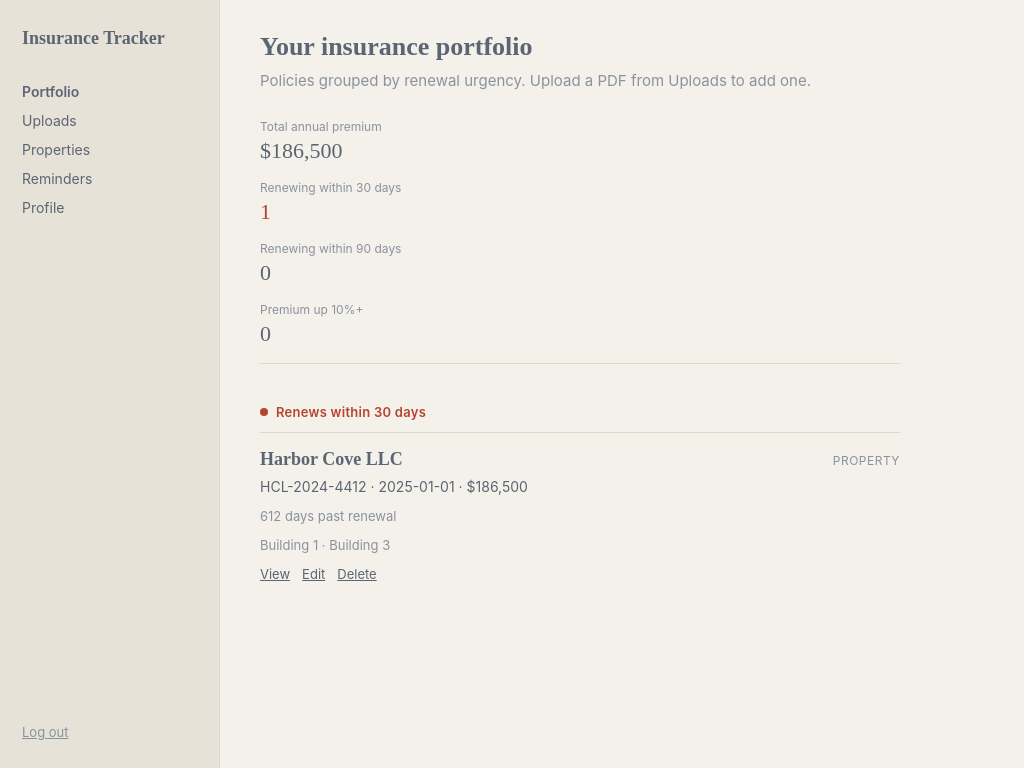
Test: portfolio management › deletes a policy only after the second confirm click
Expected: the element named "saved policies" shows "Harbor Cove LLC", [260,449,403,469]
Click the button with aria-label "delete harbor cove llc".
click(357, 574)  # box [337,566,377,582]
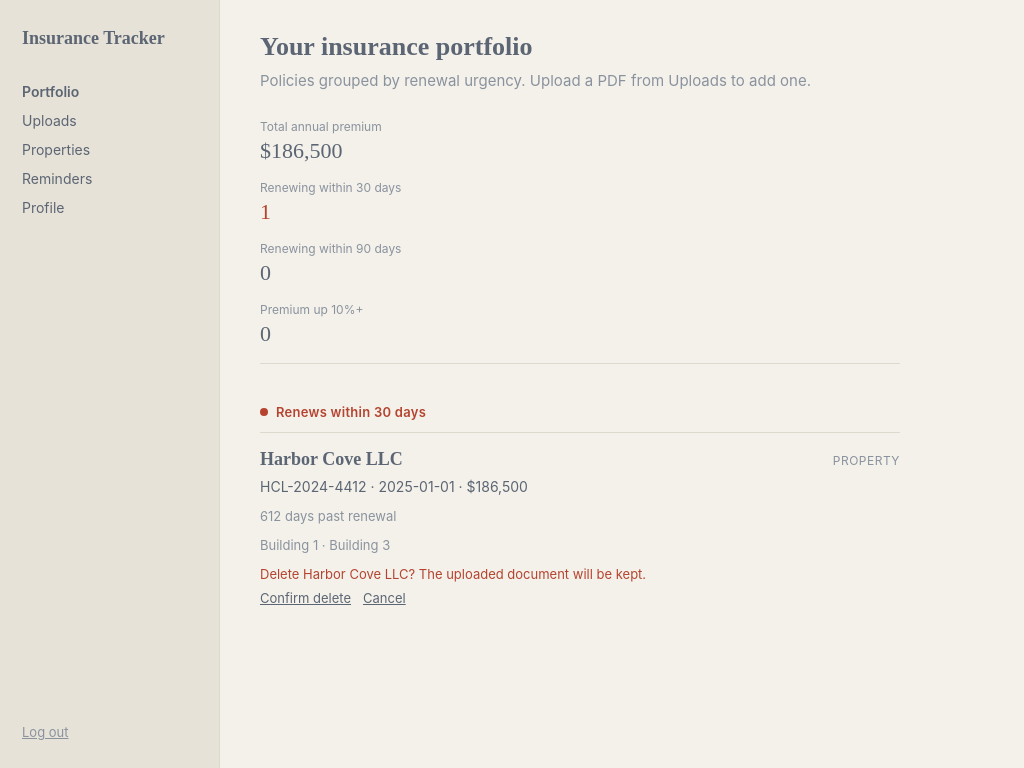
Click the button with aria-label "confirm delete harbor cove llc".
click(306, 598)  # box [260,590,351,606]
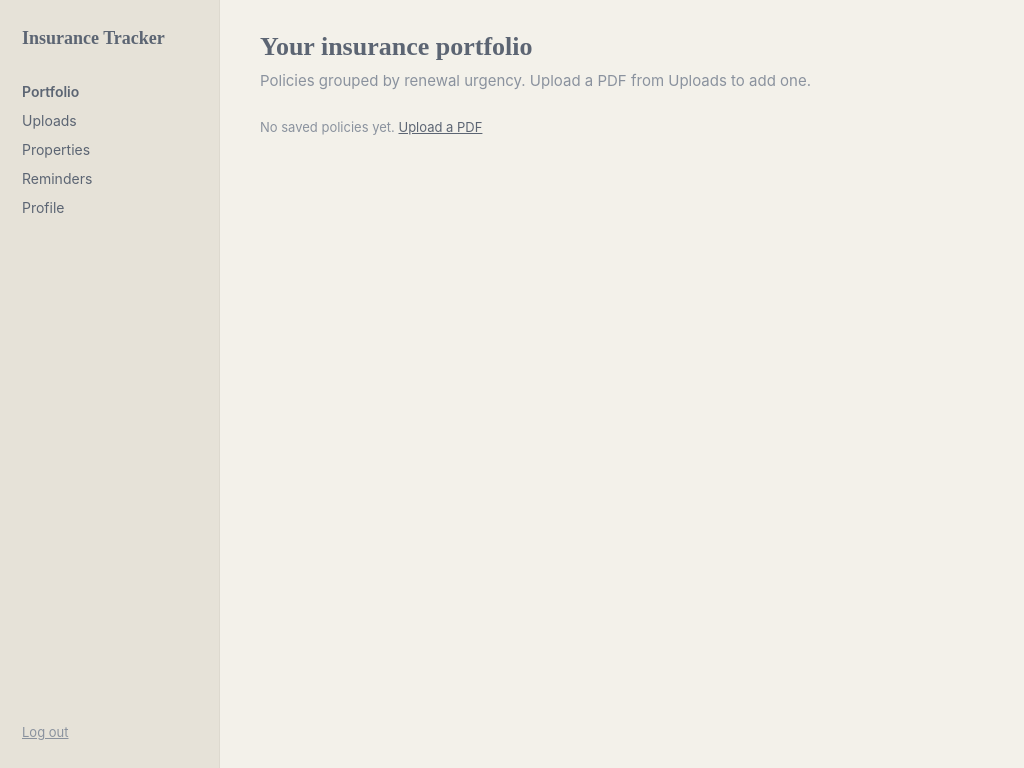
Now the heading "Harbor Cove LLC" is gone
